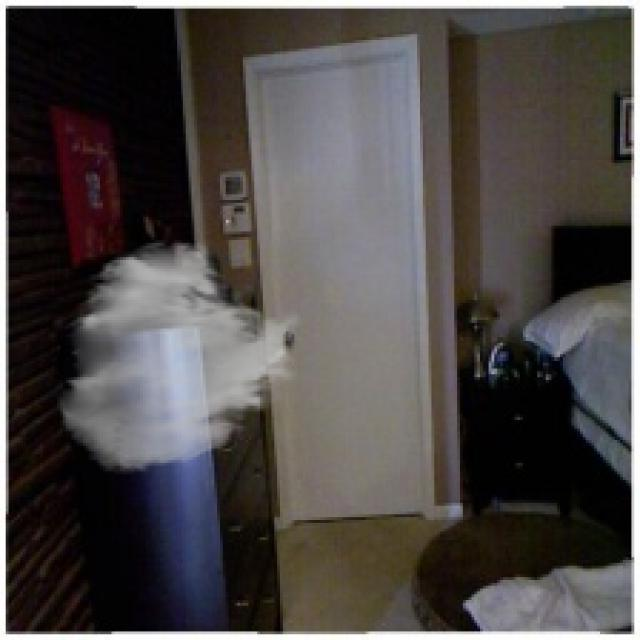Smoke: (54, 237, 306, 474)
